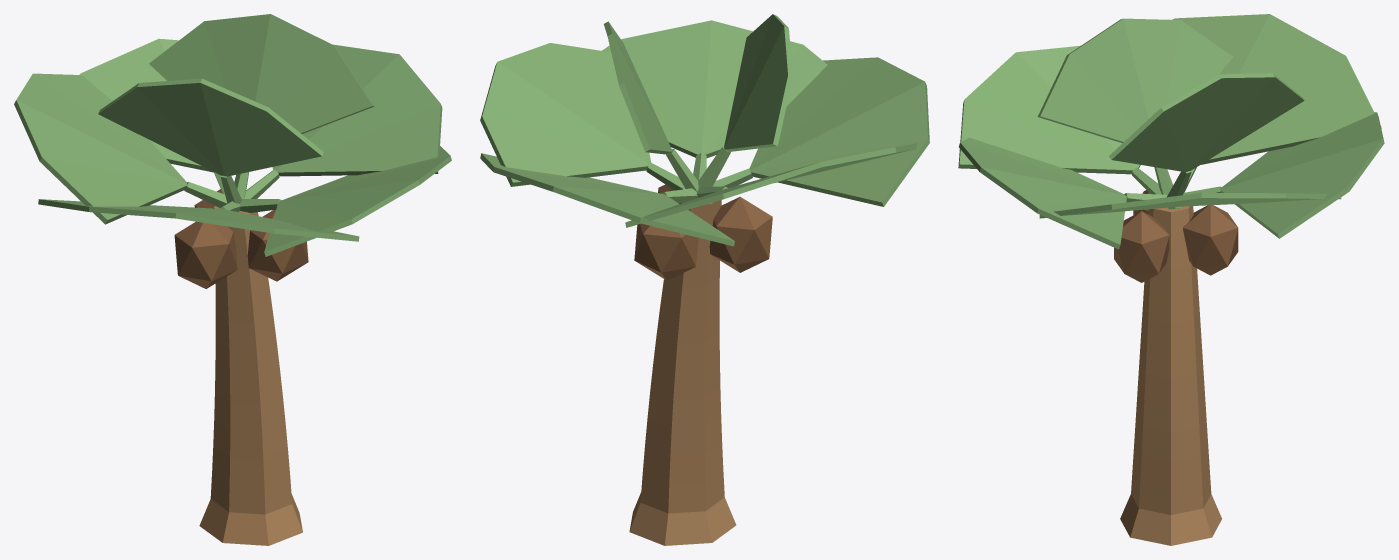
The model's file is tree-palm-short.glb.
3 views of the same model, side by side, from view 1: azimuth 30°, elevation 25°; view 2: azimuth 150°, elevation 25°; view 3: azimuth 270°, elevation 25° (orthographic). The views are drawn at different scales.
Parts seen in each view (by area): view 1: tree-palm-short; view 2: tree-palm-short; view 3: tree-palm-short.
Part boxes in pixels (left/top/right/bottom): tree-palm-short: left=14, top=14, right=451, bottom=545; tree-palm-short: left=480, top=14, right=929, bottom=545; tree-palm-short: left=958, top=14, right=1384, bottom=545.
Size of the model in its own units: 2.26 by 2.77 by 2.28.
